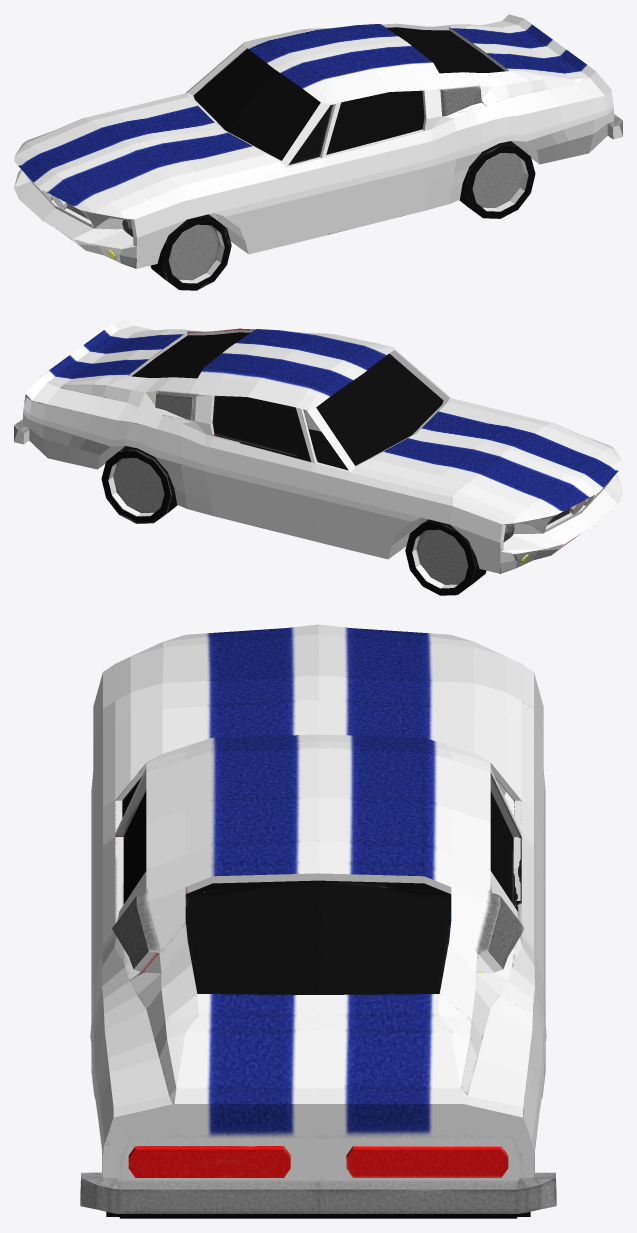
The model's file is MuscleCar.fbx.
3 renders of one model, top to bottom at view 1: azimuth 30°, elevation 25°; view 2: azimuth 150°, elevation 25°; view 3: azimuth 270°, elevation 25°, orthographic. The views are drawn at different scales.
Parts seen in each view (by area): view 1: Car; view 2: Car; view 3: Car.
Boxes of the visible parts, box(x1,y1,x2,y2) form: Car: box(14, 14, 622, 290); Car: box(14, 319, 622, 595); Car: box(80, 624, 556, 1218).
Bounding box in the file's own units: 322 × 91.47 × 125.
1 material, 1 textured.
